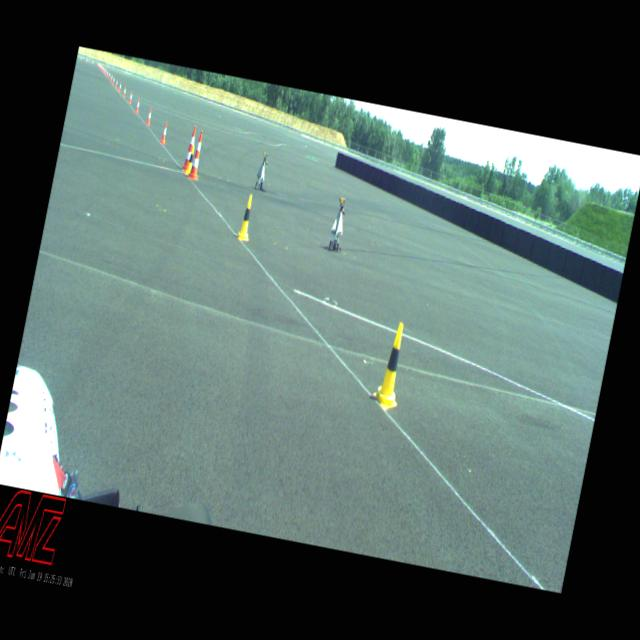large_orange_cone: (187, 130, 207, 180), (182, 125, 198, 172)
orange_cone: (160, 121, 170, 145), (146, 108, 154, 126), (135, 98, 141, 114), (128, 91, 134, 104), (122, 86, 127, 98), (119, 81, 122, 92)
yellow_cone: (370, 321, 412, 414), (236, 193, 258, 242), (184, 144, 196, 176)
